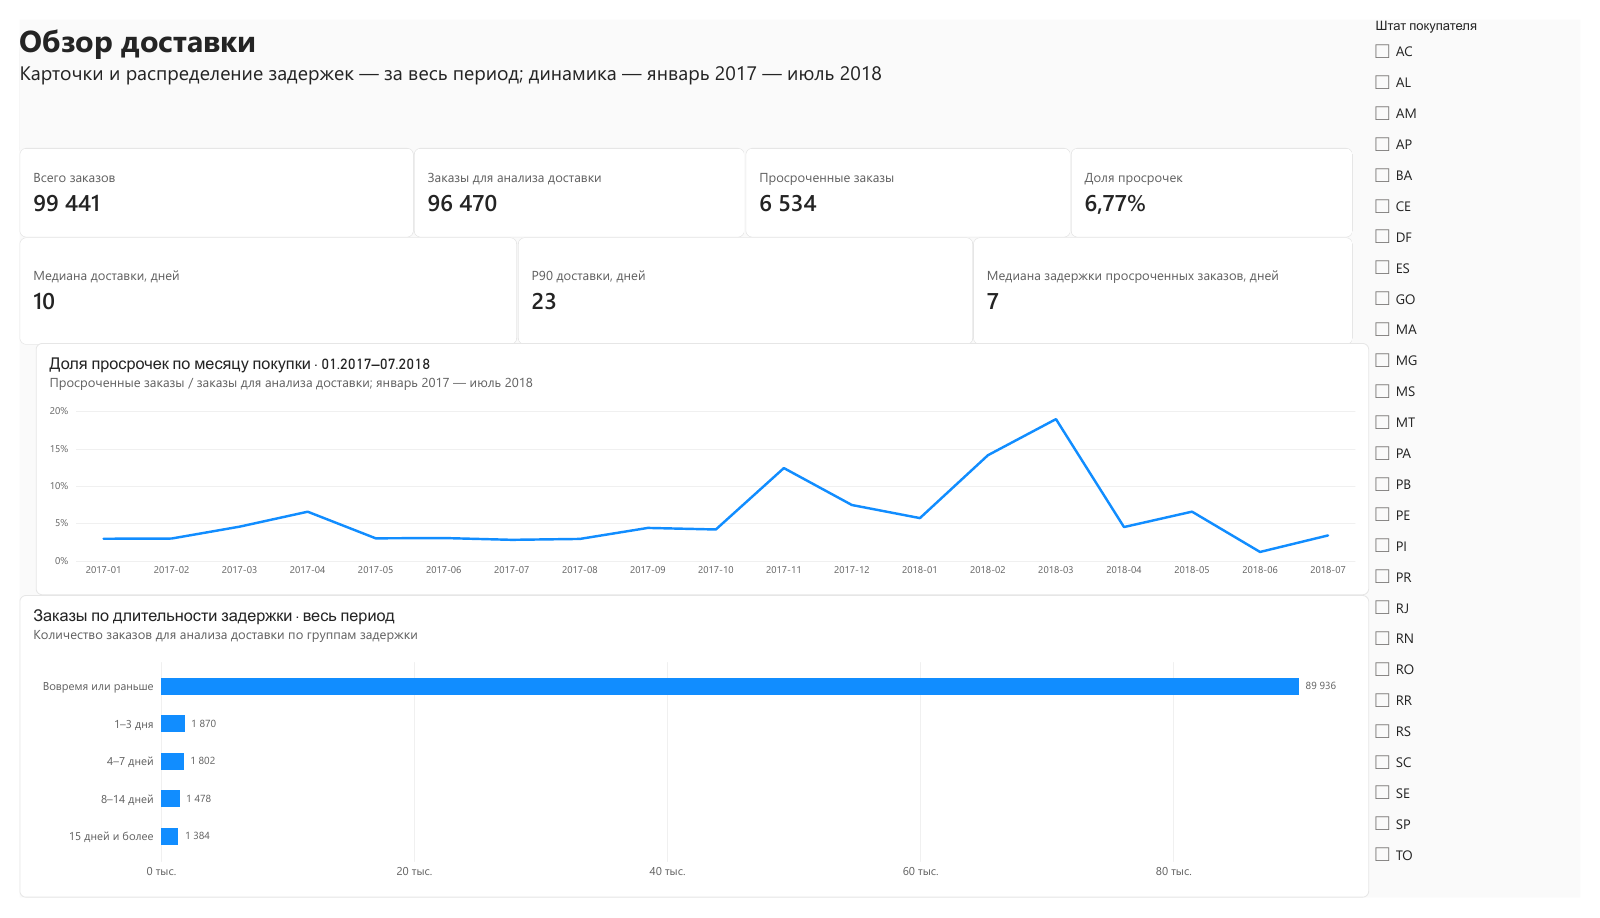

The dashboard page shown, as its layout file describes it:
{"tool":"powerbi","page":{"name":"Обзор доставки","canvas":[1920,1080],"ordinal":0},"visuals":[{"type":"cardVisual","fields":{"Data":["mart order_delivery.Всего заказов"]},"box":[0,157.5,485,110],"z":0},{"type":"cardVisual","fields":{"Data":["mart order_delivery.Пригодные заказы"]},"box":[485,157.5,407.5,110],"z":1000},{"type":"cardVisual","fields":{"Data":["mart order_delivery.Просроченные заказы"]},"box":[892.5,157.5,400,110],"z":2000},{"type":"cardVisual","fields":{"Data":["mart order_delivery.Доля просрочек"]},"box":[1292.5,157.5,347.5,110],"z":3000},{"type":"cardVisual","fields":{"Data":["mart order_delivery.Медиана доставки, дней"]},"box":[0,267.5,612.5,132.5],"z":4000},{"type":"cardVisual","fields":{"Data":["mart order_delivery.P90 доставки, дней"]},"box":[612.5,267.5,560,132.5],"z":5000},{"type":"cardVisual","fields":{"Data":["mart order_delivery.Медианная задержка, дней"]},"box":[1172.5,267.5,467.5,132.5],"z":6000},{"type":"lineChart","title":"Доля просрочек по месяцу покупки · 01.2017–07.2018","fields":{"Category":["Календарь.Месяц"],"Y":["mart order_delivery.Доля просрочек"]},"box":[20,397.5,1640,310],"z":7000},{"type":"clusteredBarChart","title":"Заказы по длительности задержки · весь период","fields":{"Category":["mart order_delivery.delay_group"],"Y":["mart order_delivery.Пригодные заказы"]},"box":[0,708.3,1660,371.7],"z":8000},{"type":"slicer","fields":{"Values":["mart order_delivery.customer_state"]},"box":[1660,0,260,1080],"z":9000},{"type":"textbox","box":[0,0,1092,158],"z":9001}]}

Visuals, with their boxes in screenshot pixels (x1, y1, x2, y2), scaled from the page's 1920x1080 canvas onto the 1600x918 screenshot:
cardVisual - mart order_delivery.Всего заказов: 0 134 404 227
cardVisual - mart order_delivery.Пригодные заказы: 404 134 744 227
cardVisual - mart order_delivery.Просроченные заказы: 744 134 1077 227
cardVisual - mart order_delivery.Доля просрочек: 1077 134 1367 227
cardVisual - mart order_delivery.Медиана доставки, дней: 0 227 510 340
cardVisual - mart order_delivery.P90 доставки, дней: 510 227 977 340
cardVisual - mart order_delivery.Медианная задержка, дней: 977 227 1367 340
"Доля просрочек по месяцу покупки · 01.2017–07.2018" lineChart: 17 338 1383 601
"Заказы по длительности задержки · весь период" clusteredBarChart: 0 602 1383 917
slicer - mart order_delivery.customer_state: 1383 0 1599 917
textbox: 0 0 910 134
